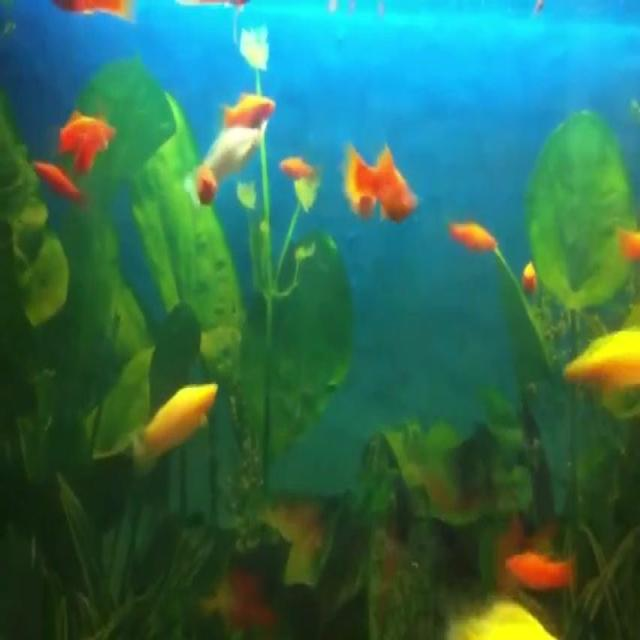PlatyFish: (120, 372, 242, 479), (335, 135, 424, 229)
